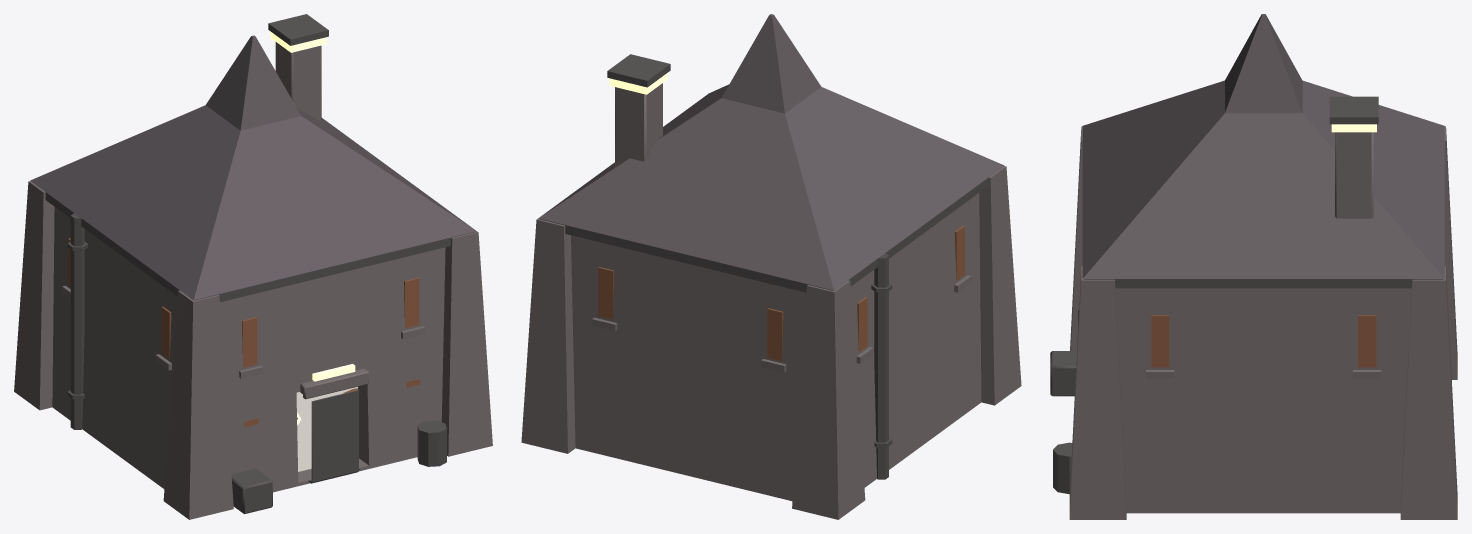
The model's file is TefraCasa.fbx.
3 renders of one model, left to right at view 1: azimuth 30°, elevation 25°; view 2: azimuth 150°, elevation 25°; view 3: azimuth 270°, elevation 25°, orthographic. The views are drawn at different scales.
Parts seen in each view (by area): view 1: TefraCasa_Base_Cuerpo, TefraCasa_Base_Techo, TefraCasa_Base_Metal, TefraCasa_Base_Cristal, TefraCasa_Base_Forro, TefraCasa_Base_Luz; view 2: TefraCasa_Base_Cuerpo, TefraCasa_Base_Techo, TefraCasa_Base_Metal, TefraCasa_Base_Cristal; view 3: TefraCasa_Base_Cuerpo, TefraCasa_Base_Techo, TefraCasa_Base_Metal, TefraCasa_Base_Cristal.
Boxes of the visible parts, x1,y1,x2,y2 form: TefraCasa_Base_Cuerpo: [14, 42, 492, 519]; TefraCasa_Base_Techo: [30, 35, 476, 300]; TefraCasa_Base_Metal: [45, 14, 474, 514]; TefraCasa_Base_Cristal: [68, 238, 420, 427]; TefraCasa_Base_Forro: [296, 386, 357, 471]; TefraCasa_Base_Luz: [270, 32, 355, 425]; TefraCasa_Base_Cuerpo: [521, 83, 1021, 519]; TefraCasa_Base_Techo: [538, 14, 1004, 290]; TefraCasa_Base_Metal: [540, 54, 988, 479]; TefraCasa_Base_Cristal: [598, 226, 964, 360]; TefraCasa_Base_Cuerpo: [1069, 126, 1457, 519]; TefraCasa_Base_Techo: [1082, 14, 1444, 278]; TefraCasa_Base_Metal: [1050, 96, 1443, 494]; TefraCasa_Base_Cristal: [1151, 315, 1376, 367].
Size of the model in its own units: 3000 by 3610 by 3150.
